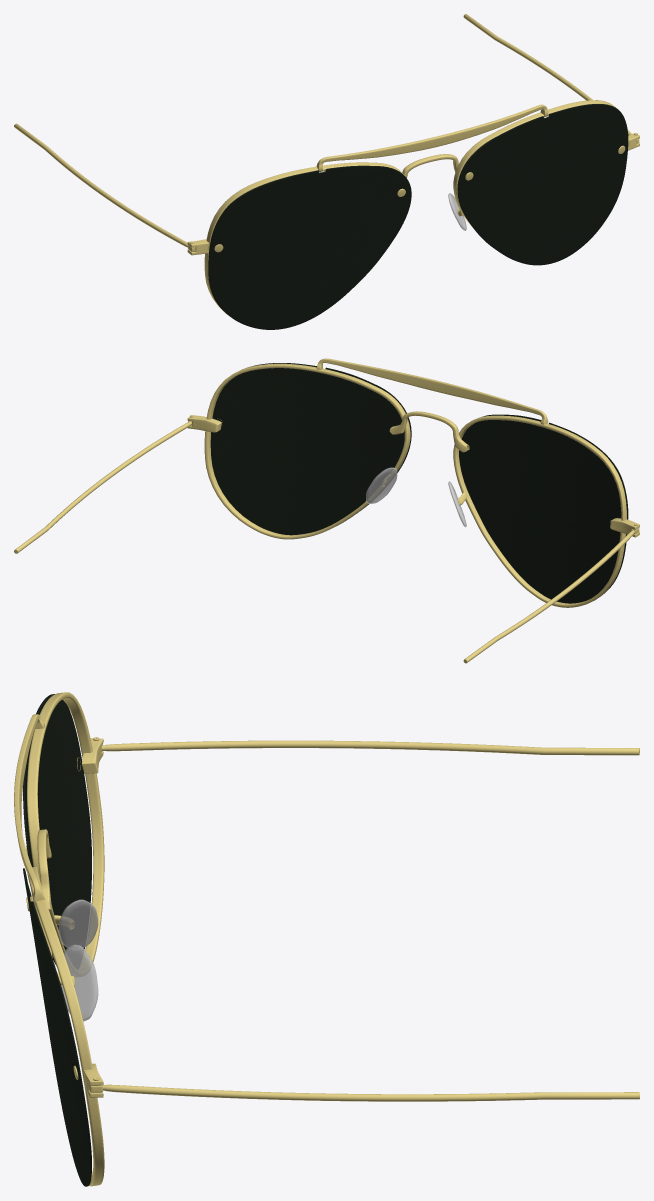
Rendered from BLAZE_app_GLB.glb.
3 views of the same model, one above another, from view 1: azimuth 30°, elevation 25°; view 2: azimuth 150°, elevation 25°; view 3: azimuth 270°, elevation 25° (orthographic). The views are drawn at different scales.
Parts seen in each view (by area): view 1: Lentes, armacao; view 2: Lentes, armacao, Pontes; view 3: armacao, Lentes, Pontes.
Boxes of the visible parts, bbox=[...] form: Lentes: bbox=[208, 104, 628, 329]; armacao: bbox=[14, 14, 639, 315]; Lentes: bbox=[210, 363, 628, 603]; armacao: bbox=[14, 358, 639, 663]; Pontes: bbox=[366, 467, 466, 527]; armacao: bbox=[14, 692, 639, 1186]; Lentes: bbox=[23, 694, 91, 1186]; Pontes: bbox=[58, 899, 98, 1021].
Bounding box in the file's own units: 0.1576 × 0.0565 × 0.1171.
Materials: 3 (3 with a texture image).
